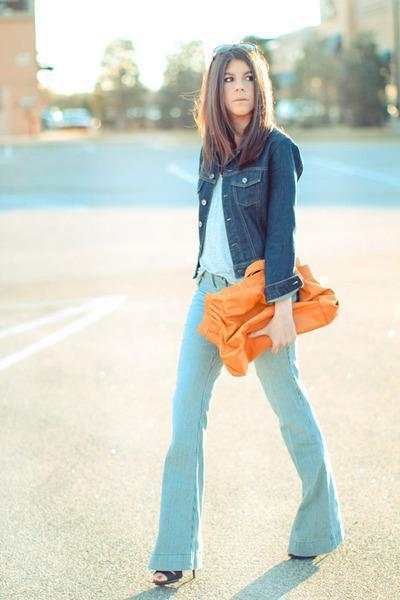jacket: (181, 126, 304, 298)
trousers: (140, 273, 342, 568)
vest: (194, 167, 246, 277)
